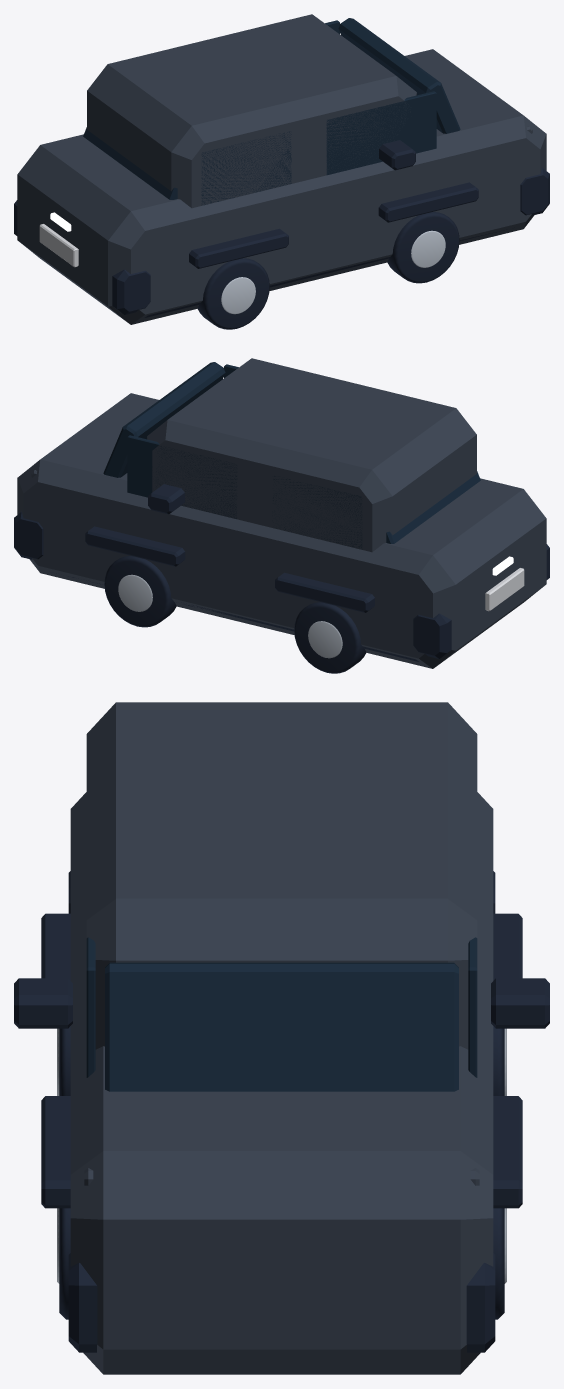
Rendered from spire_dress_car_v1.glb.
3 renders of one model, top to bottom at view 1: azimuth 30°, elevation 25°; view 2: azimuth 150°, elevation 25°; view 3: azimuth 270°, elevation 25°, orthographic. The views are drawn at different scales.
Visible parts, largest first — view 1: car_body, car_cabin, car_glass_f1, car_glass_r1, car_screen, car_tyre10.8999999999999999, car_tyre1-0.9999999999999998, car_arch10.8999999999999999, car_arch1-0.9999999999999998, car_bumper_r, car_bumper_f, car_hub1-0.9999999999999998 (+5 smaller); view 2: car_body, car_cabin, car_glass_f-1, car_screen, car_tyre-10.8999999999999999, car_tyre-1-0.9999999999999998, car_arch-10.8999999999999999, car_arch-1-0.9999999999999998, car_bumper_r, car_glass_r-1, car_bumper_f, car_hub-1-0.9999999999999998 (+5 smaller); view 3: car_body, car_cabin, car_screen, car_bumper_f, car_arch-10.8999999999999999, car_arch10.8999999999999999, car_mirror-1, car_mirror1, car_arch-1-0.9999999999999998, car_arch1-0.9999999999999998, car_glass_f-1, car_glass_f1 (+4 smaller).
Part boxes in pixels (bbox=[...]): car_body: bbox=[17, 49, 546, 324]; car_cabin: bbox=[87, 14, 416, 208]; car_glass_f1: bbox=[326, 91, 436, 175]; car_glass_r1: bbox=[201, 131, 291, 205]; car_screen: bbox=[338, 18, 460, 133]; car_tyre10.8999999999999999: bbox=[387, 212, 459, 283]; car_tyre1-0.9999999999999998: bbox=[197, 258, 269, 329]; car_arch10.8999999999999999: bbox=[378, 182, 478, 222]; car_arch1-0.9999999999999998: bbox=[189, 228, 288, 268]; car_bumper_r: bbox=[14, 200, 150, 314]; car_bumper_f: bbox=[520, 167, 549, 215]; car_hub1-0.9999999999999998: bbox=[221, 277, 255, 314]; car_body: bbox=[17, 393, 546, 668]; car_cabin: bbox=[147, 358, 476, 552]; car_glass_f-1: bbox=[127, 435, 237, 518]; car_screen: bbox=[103, 362, 225, 477]; car_tyre-10.8999999999999999: bbox=[104, 556, 176, 627]; car_tyre-1-0.9999999999999998: bbox=[294, 602, 366, 673]; car_arch-10.8999999999999999: bbox=[85, 526, 185, 566]; car_arch-1-0.9999999999999998: bbox=[275, 572, 374, 612]; car_bumper_r: bbox=[413, 544, 549, 658]; car_glass_r-1: bbox=[272, 476, 362, 549]; car_bumper_f: bbox=[14, 511, 43, 559]; car_hub-1-0.9999999999999998: bbox=[308, 621, 342, 658]; car_body: bbox=[70, 792, 493, 1374]; car_cabin: bbox=[86, 702, 477, 1049]; car_screen: bbox=[105, 962, 458, 1091]; car_bumper_f: bbox=[68, 1253, 495, 1352]; car_arch-10.8999999999999999: bbox=[493, 1096, 522, 1208]; car_arch10.8999999999999999: bbox=[41, 1096, 70, 1208]; car_mirror-1: bbox=[491, 978, 549, 1028]; car_mirror1: bbox=[14, 978, 72, 1028]; car_arch-1-0.9999999999999998: bbox=[493, 913, 522, 980]; car_arch1-0.9999999999999998: bbox=[41, 913, 70, 980]; car_glass_f-1: bbox=[468, 937, 477, 1077]; car_glass_f1: bbox=[86, 937, 95, 1077].
Size of the model in its own units: 4.45 by 1.93 by 2.36.
